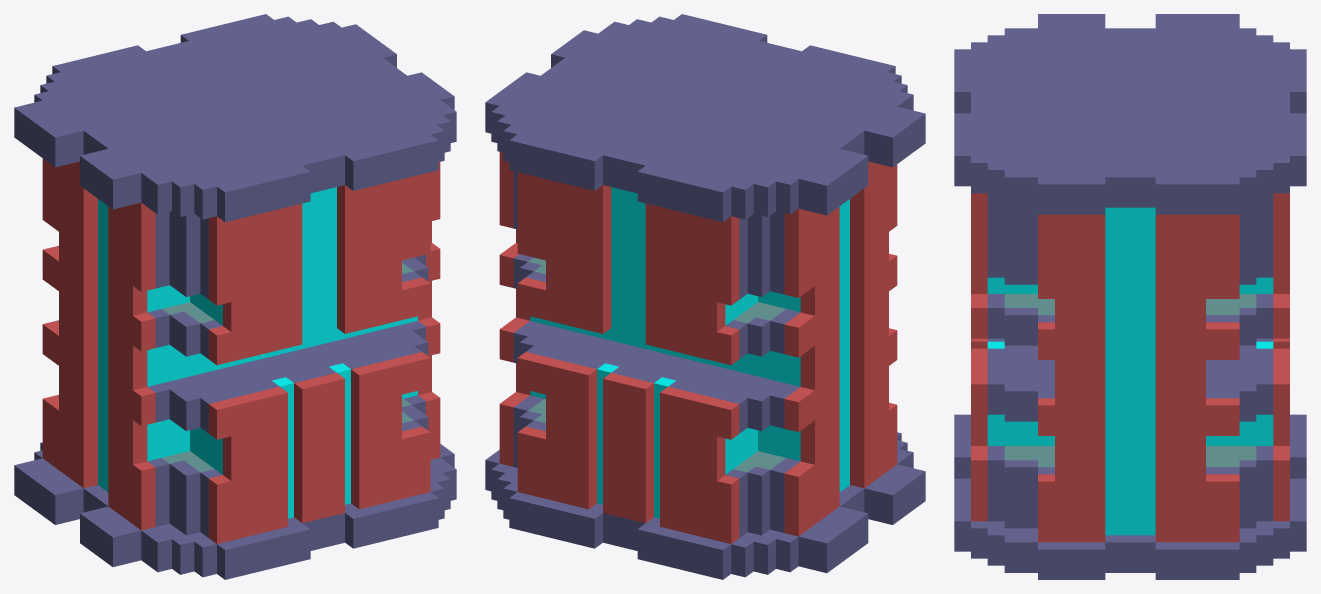
The model's file is TurretBottom.obj.
3 renders of one model, left to right at view 1: azimuth 30°, elevation 25°; view 2: azimuth 150°, elevation 25°; view 3: azimuth 270°, elevation 25°, orthographic. The views are drawn at different scales.
Bounding box in the file's own units: 24 × 26 × 21.
1 material, 1 textured.
